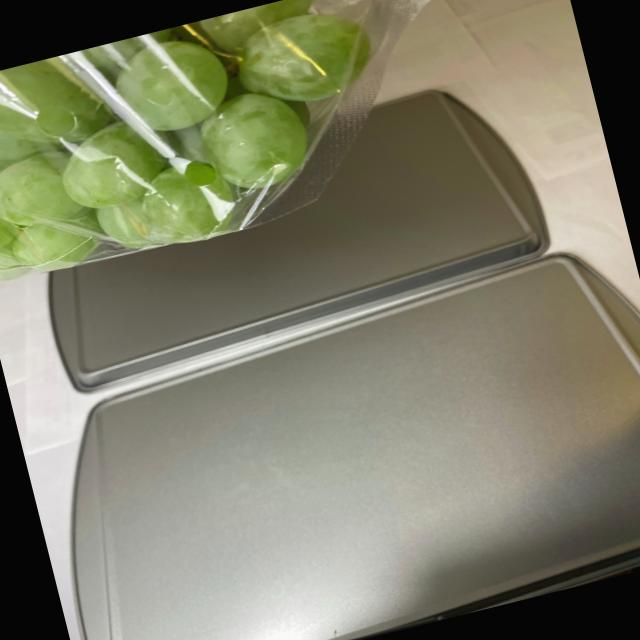grapes: (0, 0, 419, 301)
